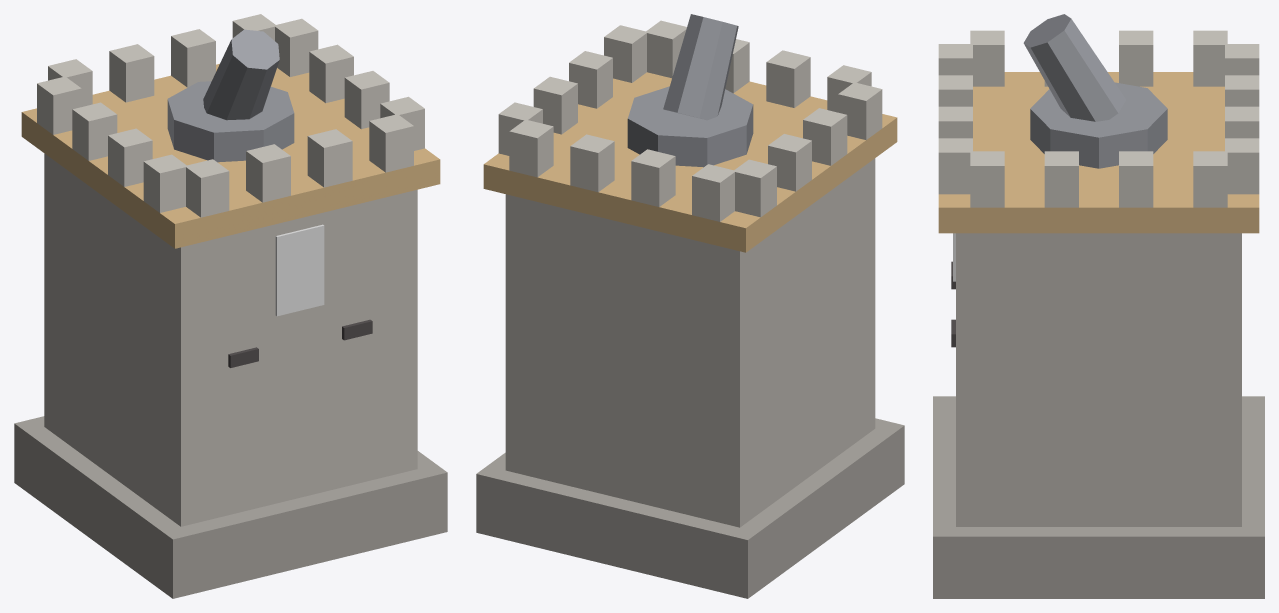
The picture shows the model from 3 angles, left to right: view 1: azimuth 30°, elevation 25°; view 2: azimuth 150°, elevation 25°; view 3: azimuth 270°, elevation 25°; orthographic projection. The views are drawn at different scales.
Parts seen in each view (by area): view 1: body; view 2: body; view 3: body.
Part boxes in pixels (x1,y1,x2,y2): body: (14, 14, 447, 598); body: (476, 14, 904, 598); body: (933, 14, 1264, 598).
Bounding box in the file's own units: 5.8 × 9.84 × 5.8.
